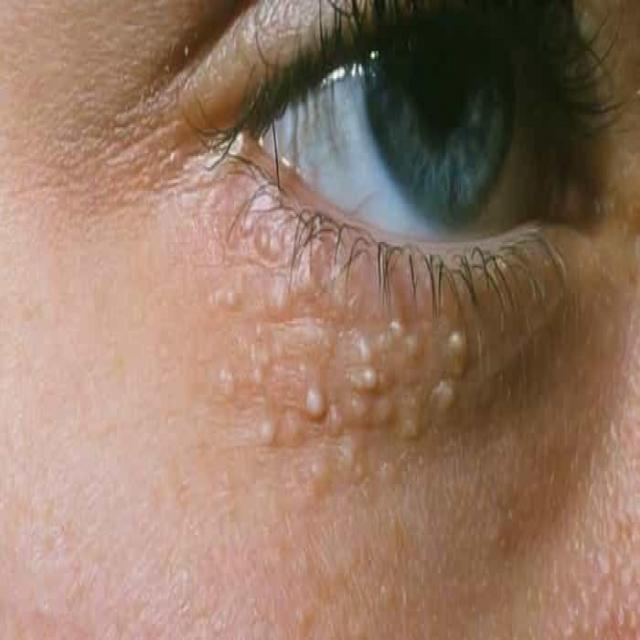Pimples: (300, 436, 372, 509), (210, 320, 274, 401), (262, 270, 364, 320), (392, 382, 432, 450), (302, 372, 336, 434), (351, 342, 381, 395), (204, 277, 248, 312), (246, 226, 286, 261), (438, 329, 473, 362)
